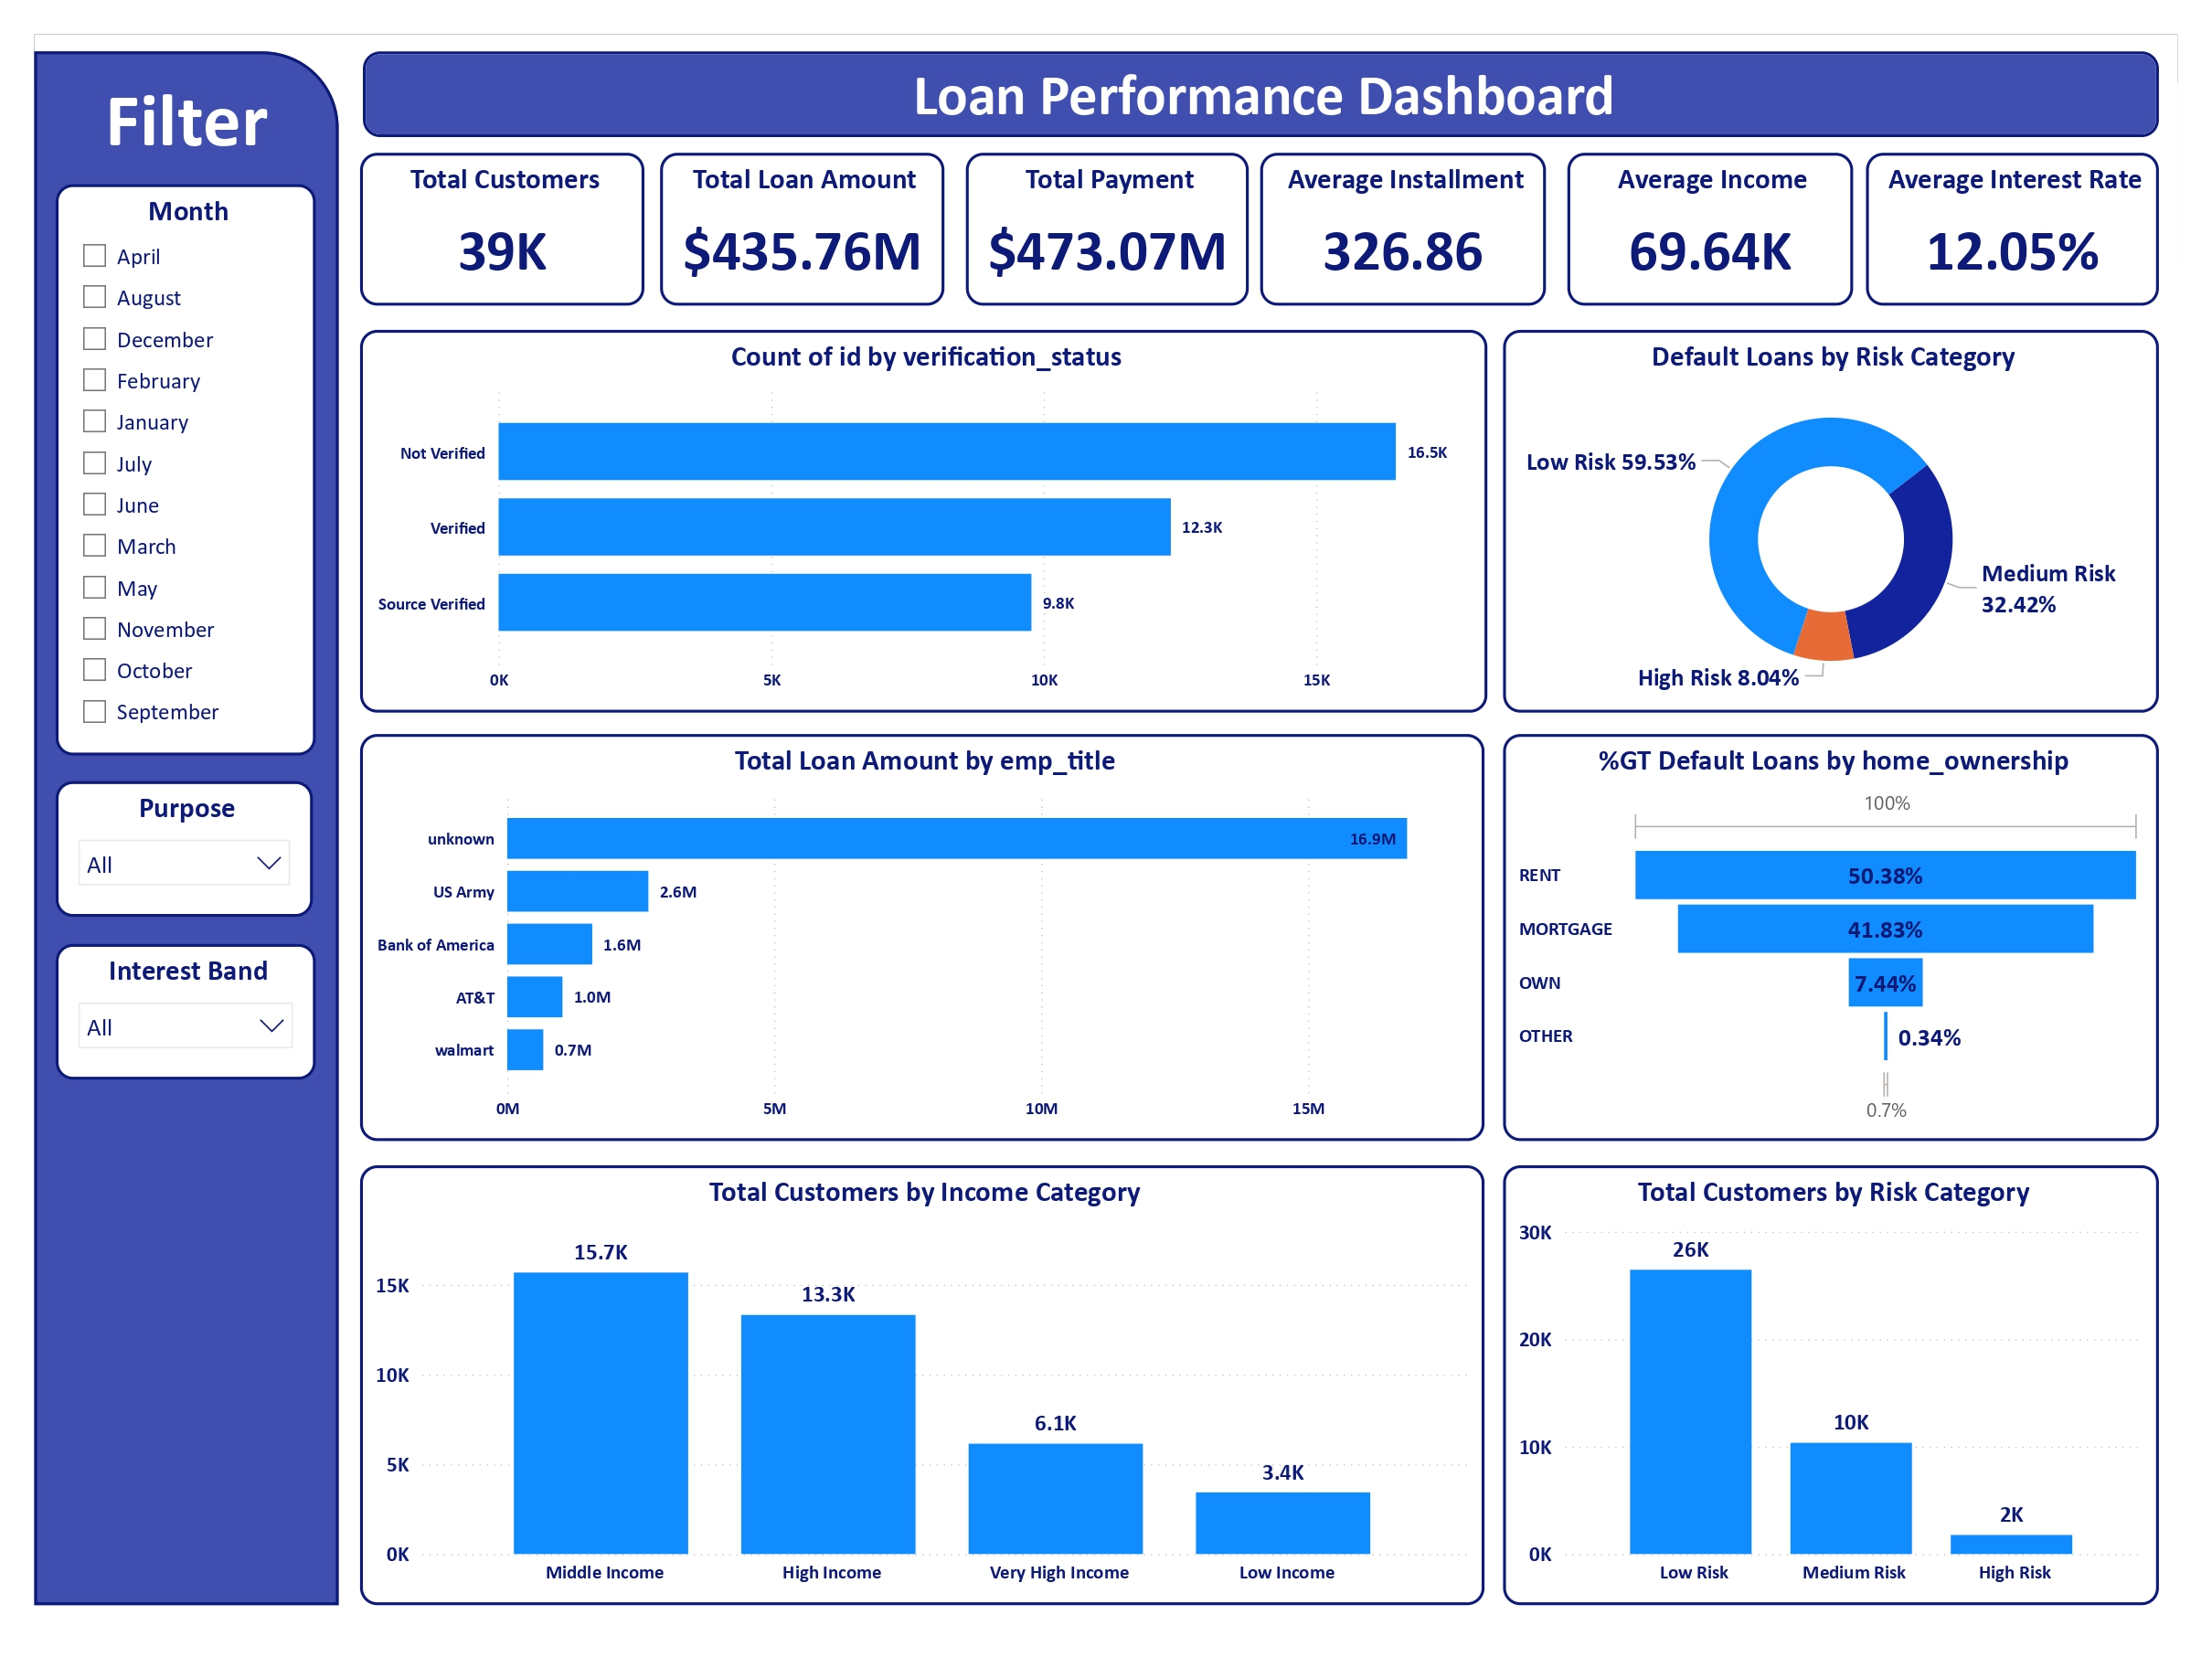

What the dashboard file says about the page in this screenshot:
{"tool":"powerbi","page":{"name":"Risk & Credit Analysis","canvas":[1500,1120],"ordinal":1},"visuals":[{"type":"card","title":"Average Installment","fields":{"Values":["loan.Avg Installment"]},"box":[858.3,83.3,200,106.7],"z":0},{"type":"card","title":"Average Income","fields":{"Values":["loan.Avg Income"]},"box":[1073.3,83.3,200,106.7],"z":1000},{"type":"barChart","fields":{"Y":["Count(loan.id)"],"Category":["loan.verification_status"]},"box":[228.3,206.7,788.3,268.3],"z":2000},{"type":"columnChart","fields":{"Category":["loan.Income Category"],"Y":["loan.Total Customers"]},"box":[228,792,787,308],"z":3000},{"type":"funnel","fields":{"Category":["loan.home_ownership"],"Y":["loan.Default Loans"]},"box":[1028,490,459,285],"z":4000},{"type":"columnChart","fields":{"Y":["loan.Total Customers"],"Category":["loan.Risk Category"]},"box":[1028,792,459,308],"z":5000},{"type":"donutChart","fields":{"Category":["loan.Risk Category"],"Y":["loan.Default Loans"]},"box":[1028,207,459,268],"z":6000},{"type":"card","title":"Total Customers","fields":{"Values":["loan.Total Customers"]},"box":[228.3,83.3,198.3,106.7],"z":7000},{"type":"barChart","fields":{"Category":["loan.emp_title"],"Y":["loan.Total Loan Amount"]},"box":[228.3,490,786.7,285],"z":8000},{"type":"card","title":"Average Interest Rate","fields":{"Values":["loan.Avg Interest Rate"]},"box":[1282,83,205,107],"z":9000},{"type":"card","title":"Total Payment","fields":{"Values":["loan.Total Payment"]},"box":[651.7,83.3,198.3,106.7],"z":10000},{"type":"card","title":"Total Loan Amount","fields":{"Values":["loan.Total Loan Amount"]},"box":[438.3,83.3,198.3,106.7],"z":11000},{"type":"shape","box":[0,11.7,213.3,1088.3],"z":12000},{"type":"textbox","title":"Loan Performance Dashboard","box":[230,12,1257,60],"z":13000},{"type":"textbox","box":[25,21.7,163.3,83.3],"z":14000},{"type":"slicer","title":"Month","fields":{"Values":["loan.Month"]},"box":[15,105,181.7,400],"z":15000},{"type":"slicer","title":"Purpose","fields":{"Values":["loan.purpose"]},"box":[15,523.3,180,95],"z":16000},{"type":"slicer","title":"Interest Band","fields":{"Values":["loan.Interest Band"]},"box":[15,636.7,181.7,95],"z":17000}]}

Visuals, with their boxes on the page's 1500x1120 design canvas (x1, y1, x2, y2). These are canvas units, not pixel positions in the 2212x1668 screenshot, which may show the page scaled, cropped or inside an application window:
"Average Installment" card: 858, 83, 1058, 190
"Average Income" card: 1073, 83, 1273, 190
barChart - Count(loan.id) x loan.verification_status: 228, 207, 1017, 475
columnChart - loan.Income Category x loan.Total Customers: 228, 792, 1015, 1100
funnel - loan.home_ownership x loan.Default Loans: 1028, 490, 1487, 775
columnChart - loan.Total Customers x loan.Risk Category: 1028, 792, 1487, 1100
donutChart - loan.Risk Category x loan.Default Loans: 1028, 207, 1487, 475
"Total Customers" card: 228, 83, 427, 190
barChart - loan.emp_title x loan.Total Loan Amount: 228, 490, 1015, 775
"Average Interest Rate" card: 1282, 83, 1487, 190
"Total Payment" card: 652, 83, 850, 190
"Total Loan Amount" card: 438, 83, 637, 190
shape: 0, 12, 213, 1100
"Loan Performance Dashboard" textbox: 230, 12, 1487, 72
textbox: 25, 22, 188, 105
"Month" slicer: 15, 105, 197, 505
"Purpose" slicer: 15, 523, 195, 618
"Interest Band" slicer: 15, 637, 197, 732
